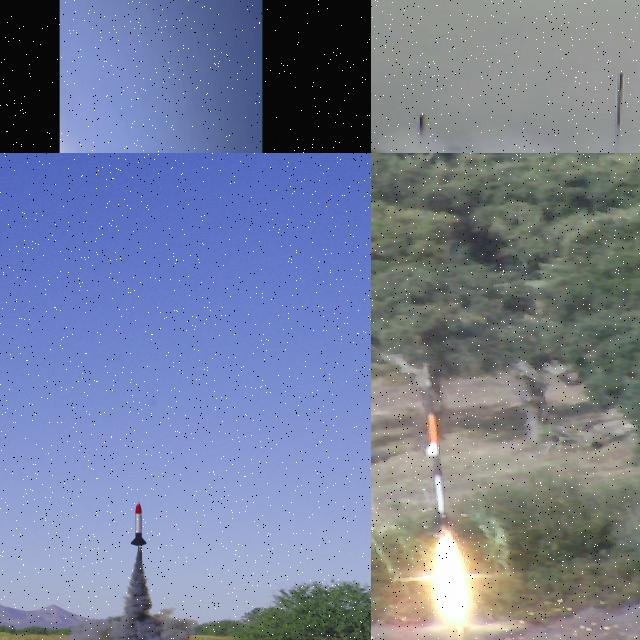Rocket: (423, 413, 452, 524), (130, 502, 148, 547), (164, 59, 166, 62)
